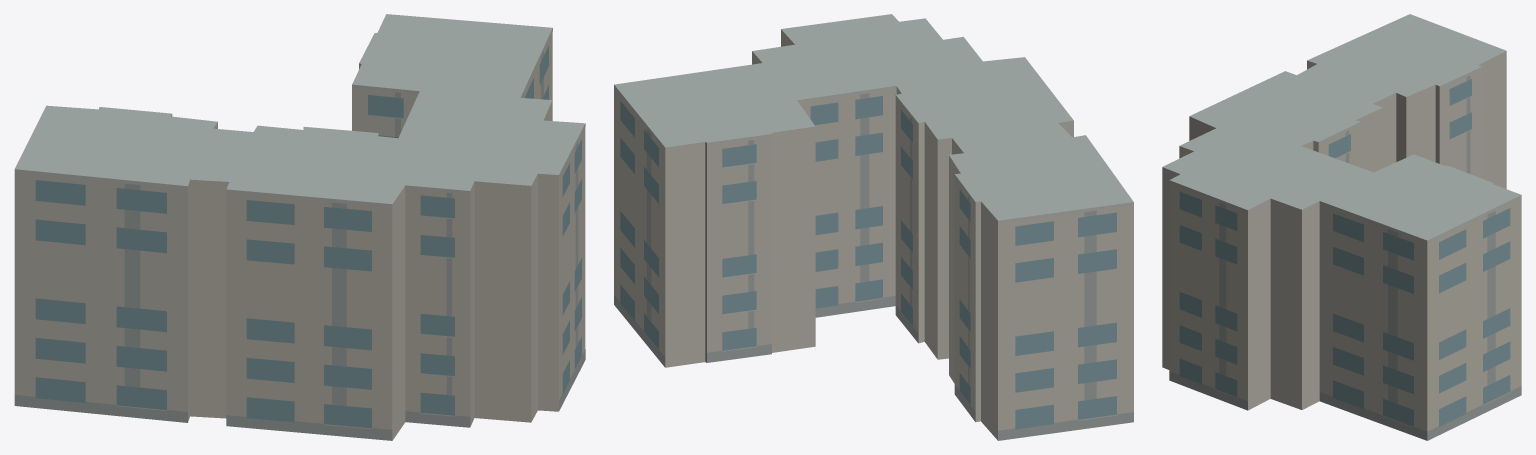
File: survey-upis-32915245.glb
The picture shows the model from 3 angles, left to right: view 1: azimuth 30°, elevation 25°; view 2: azimuth 150°, elevation 25°; view 3: azimuth 270°, elevation 25°; orthographic projection. The views are drawn at different scales.
Visible parts, largest first — view 1: survey-upis-32915245.tmp; view 2: survey-upis-32915245.tmp; view 3: survey-upis-32915245.tmp.
Boxes of the visible parts, x1=… form: survey-upis-32915245.tmp: x1=14, y1=14, x2=585, y2=440; survey-upis-32915245.tmp: x1=614, y1=14, x2=1133, y2=440; survey-upis-32915245.tmp: x1=1162, y1=14, x2=1521, y2=440.
Size of the model in its own units: 38.08 by 15.7 by 25.53.
